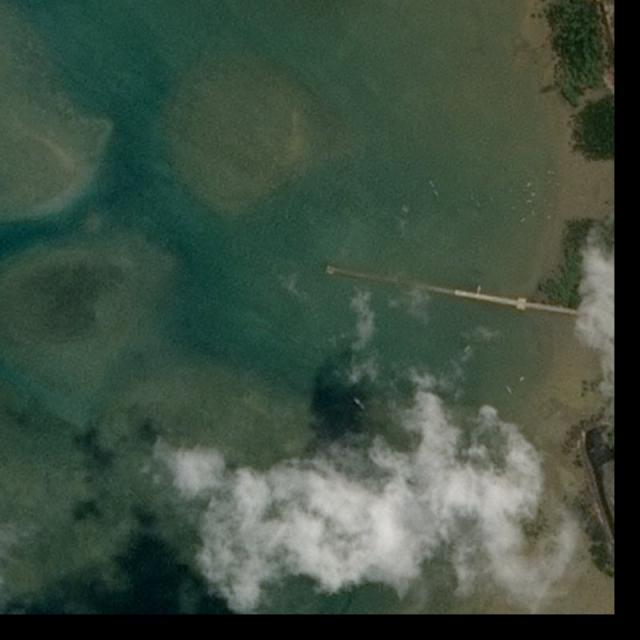ship: (352, 396, 367, 412), (505, 386, 512, 394), (463, 346, 469, 353)
